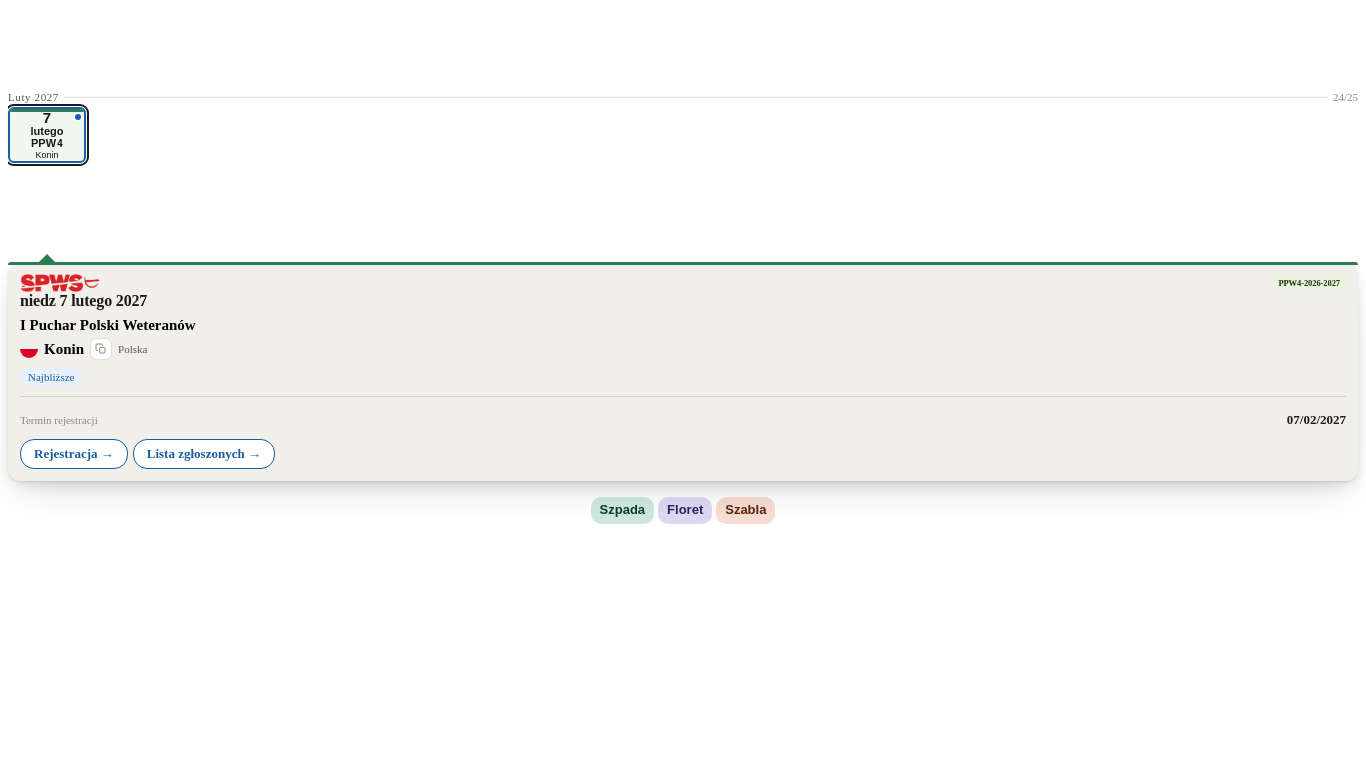
Test case: CalendarView orchestrator (ADR-084) › CV.13: opens the modal in list view from the entry-list link
The width and height of the screenshot is (1366, 768).
Click the link with class "entry-list-link": x=204, y=454 [133, 439, 275, 469]
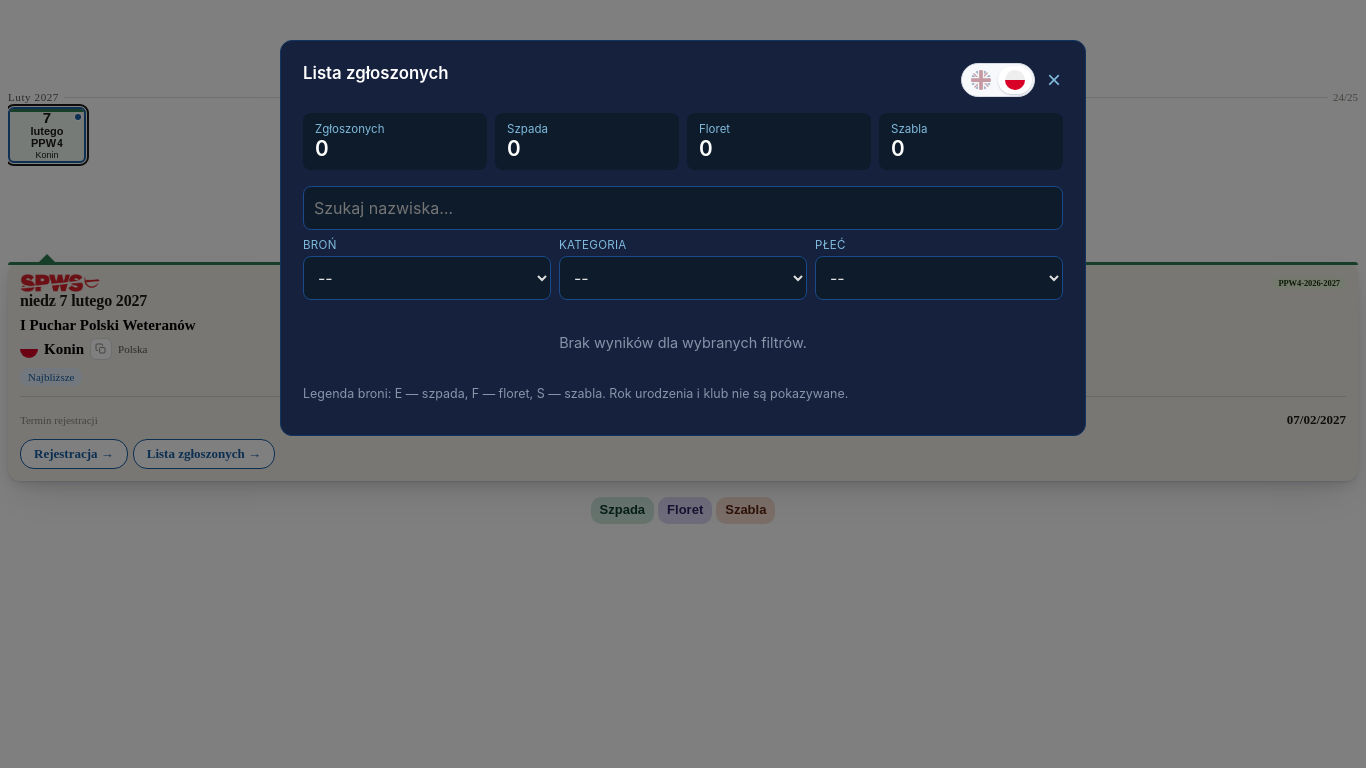
Now the element that starts with "Lista zgłoszonych" is shown, box [280, 40, 1086, 436]
